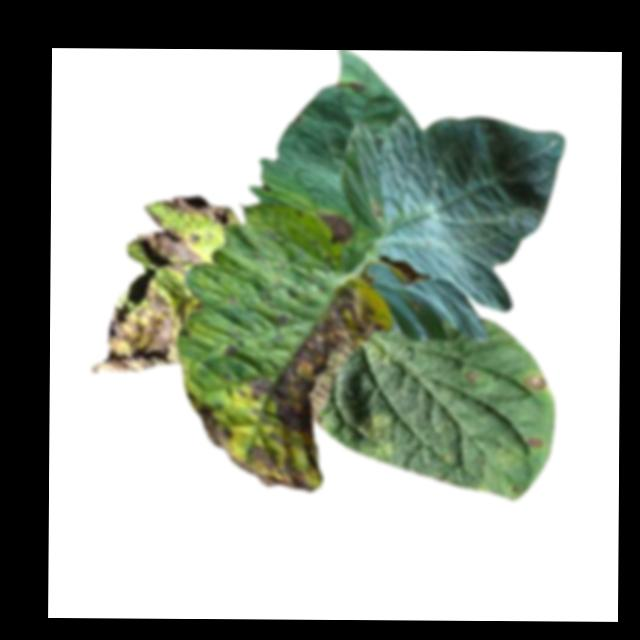Early_blight: (186, 279, 388, 493), (89, 229, 200, 374), (159, 188, 234, 223), (319, 213, 356, 246), (520, 373, 545, 391), (349, 80, 367, 96), (461, 370, 480, 385), (369, 203, 383, 220), (526, 438, 544, 448)
